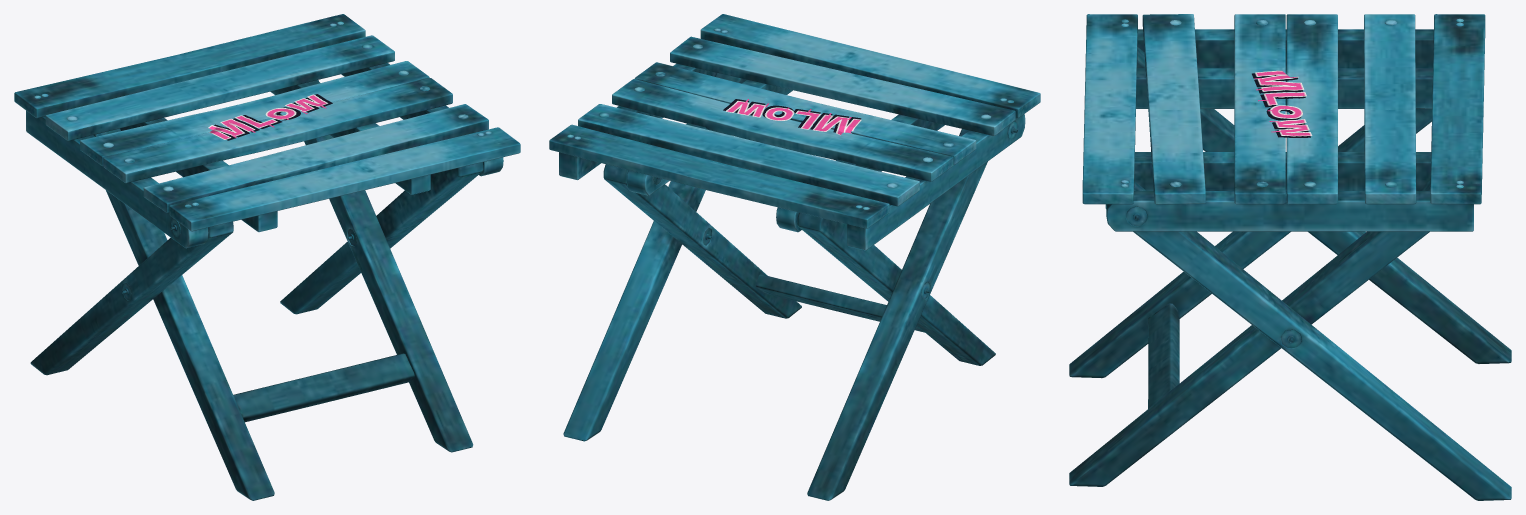
Rendered from nyb_bobbyfischer_stool.glb.
3 renders of one model, left to right at view 1: azimuth 30°, elevation 25°; view 2: azimuth 150°, elevation 25°; view 3: azimuth 270°, elevation 25°, orthographic. The views are drawn at different scales.
Parts seen in each view (by area): view 1: folding_wooden_stool, stk_tag_mlow.png; view 2: folding_wooden_stool, stk_tag_mlow.png; view 3: folding_wooden_stool, stk_tag_mlow.png.
Boxes of the visible parts, x1,y1,x2,y2 form: folding_wooden_stool: (14,14,520,500); stk_tag_mlow.png: (208,94,332,140); folding_wooden_stool: (549,14,1040,500); stk_tag_mlow.png: (723,99,861,135); folding_wooden_stool: (1069,14,1511,500); stk_tag_mlow.png: (1252,70,1312,137).
Size of the model in its own units: 0.5278 by 0.4428 by 0.5471.
2 materials, 2 textured.
